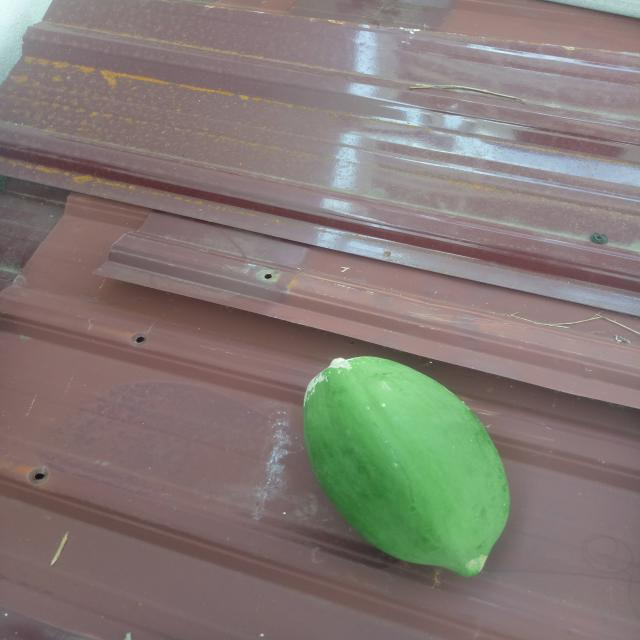Pepaya unrippen: (290, 348, 511, 585)
